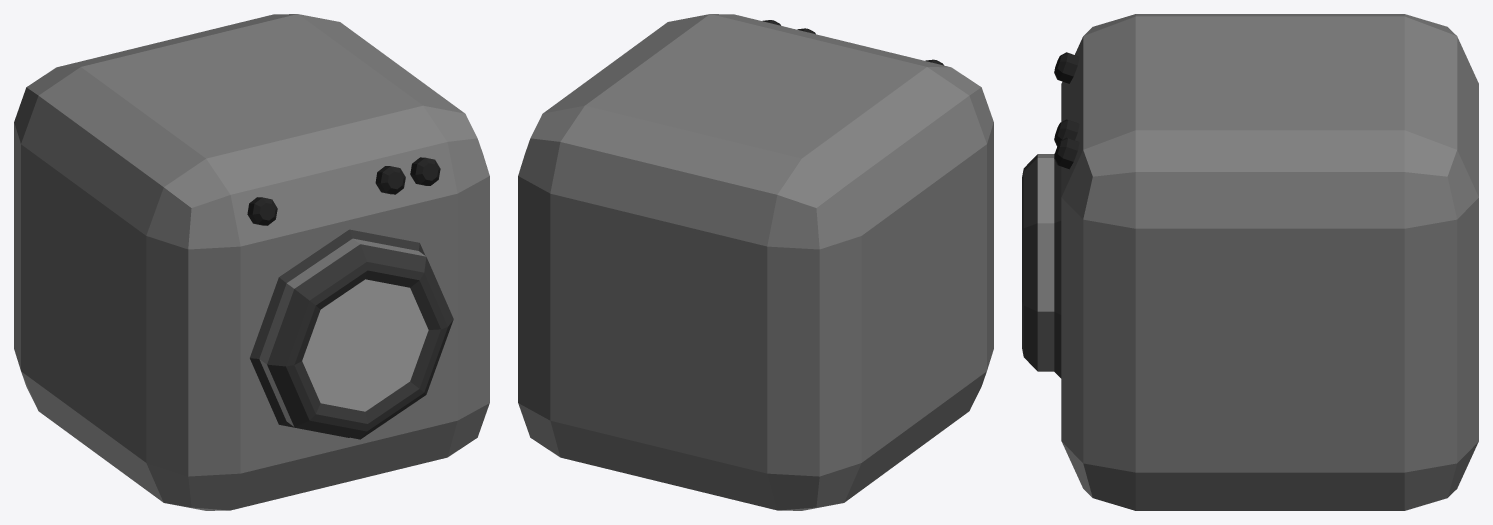
Rendered from LaundryMachine.fbx.
3 views of the same model, side by side, from view 1: azimuth 30°, elevation 25°; view 2: azimuth 150°, elevation 25°; view 3: azimuth 270°, elevation 25° (orthographic). The views are drawn at different scales.
Parts seen in each view (by area): view 1: LaundryMachine; view 2: LaundryMachine; view 3: LaundryMachine.
Boxes of the visible parts, x1=… form: LaundryMachine: x1=14, y1=14, x2=489, y2=510; LaundryMachine: x1=518, y1=14, x2=993, y2=510; LaundryMachine: x1=1022, y1=14, x2=1478, y2=510.
Size of the model in its own units: 0.8435 by 0.8435 by 0.9232.
Materials: 1 (1 with a texture image).
